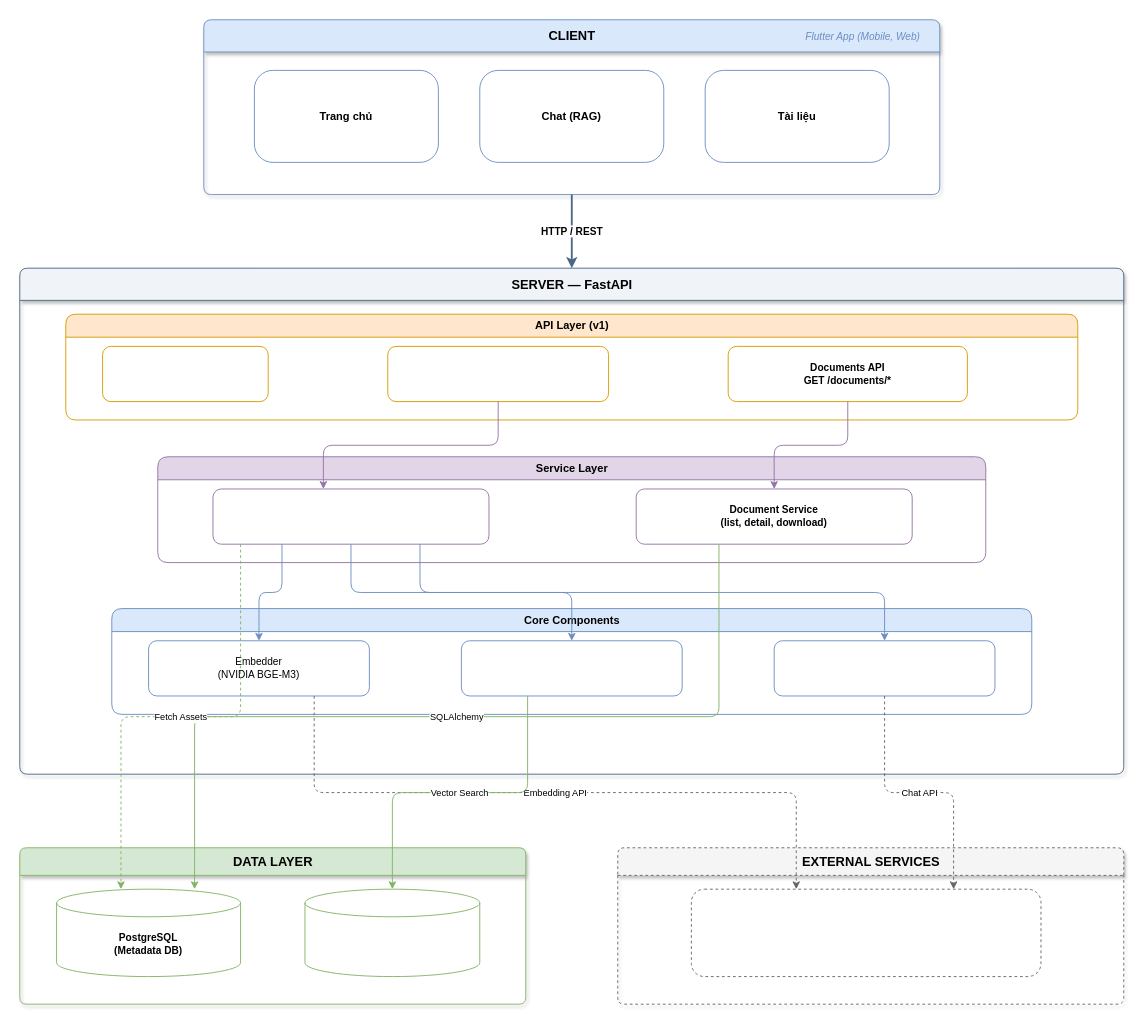
This 1145x1027 diagram has some shape labels left out. The centre of each missing label's shape, as x and y in pixels:
"Health API /health" goes at (x=185, y=373).
"LLM Generator (ChatNVIDIA)" goes at (x=884, y=668).
"NVIDIA AI Endpoints (Embedding + LLM)" goes at (x=865, y=932).
"Qdrant (Vector DB)" goes at (x=392, y=932).
"RAG API POST /rag/answer" goes at (x=498, y=373).
"RAG Service (answer_question)" goes at (x=350, y=516).
"Retriever (Vector Search)" goes at (x=571, y=668).
